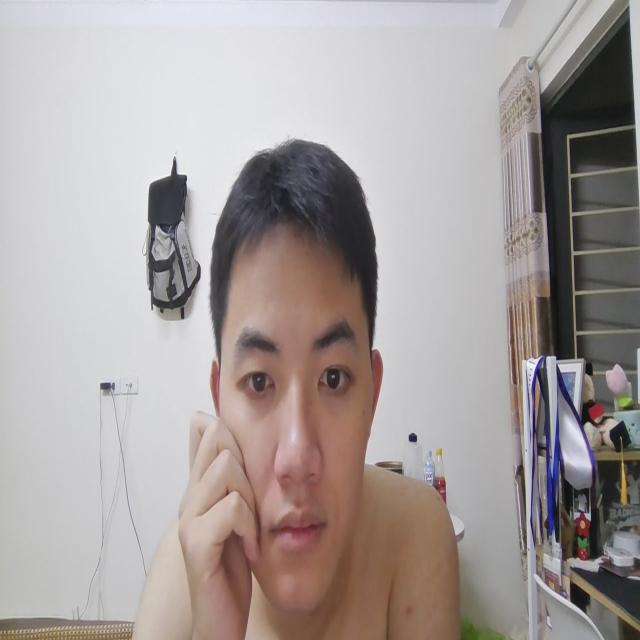student: (169, 121, 415, 640)
